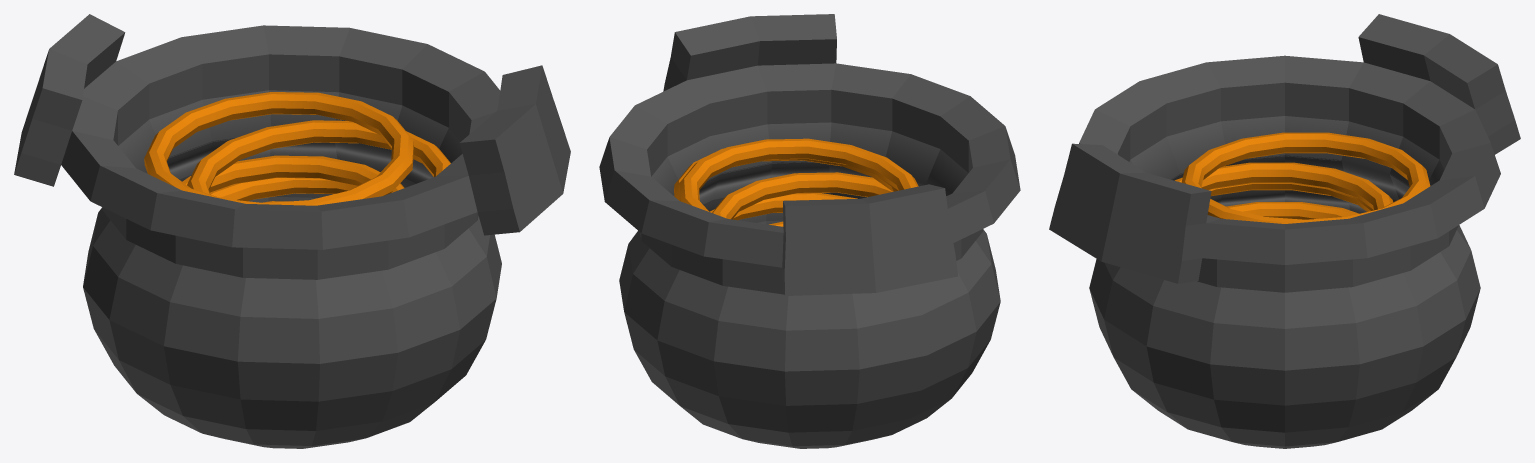
The model's file is basket_with_rings.fbx.
3 renders of one model, left to right at view 1: azimuth 30°, elevation 25°; view 2: azimuth 150°, elevation 25°; view 3: azimuth 270°, elevation 25°, orthographic. The views are drawn at different scales.
Visible parts, largest first — view 1: Sphere1; view 2: Sphere1; view 3: Sphere1.
Boxes of the visible parts, x1,y1,x2,y2 form: Sphere1: [14, 14, 570, 448]; Sphere1: [599, 14, 1020, 448]; Sphere1: [1049, 14, 1520, 448].
Size of the model in its own units: 7.82 by 5.94 by 7.82.
